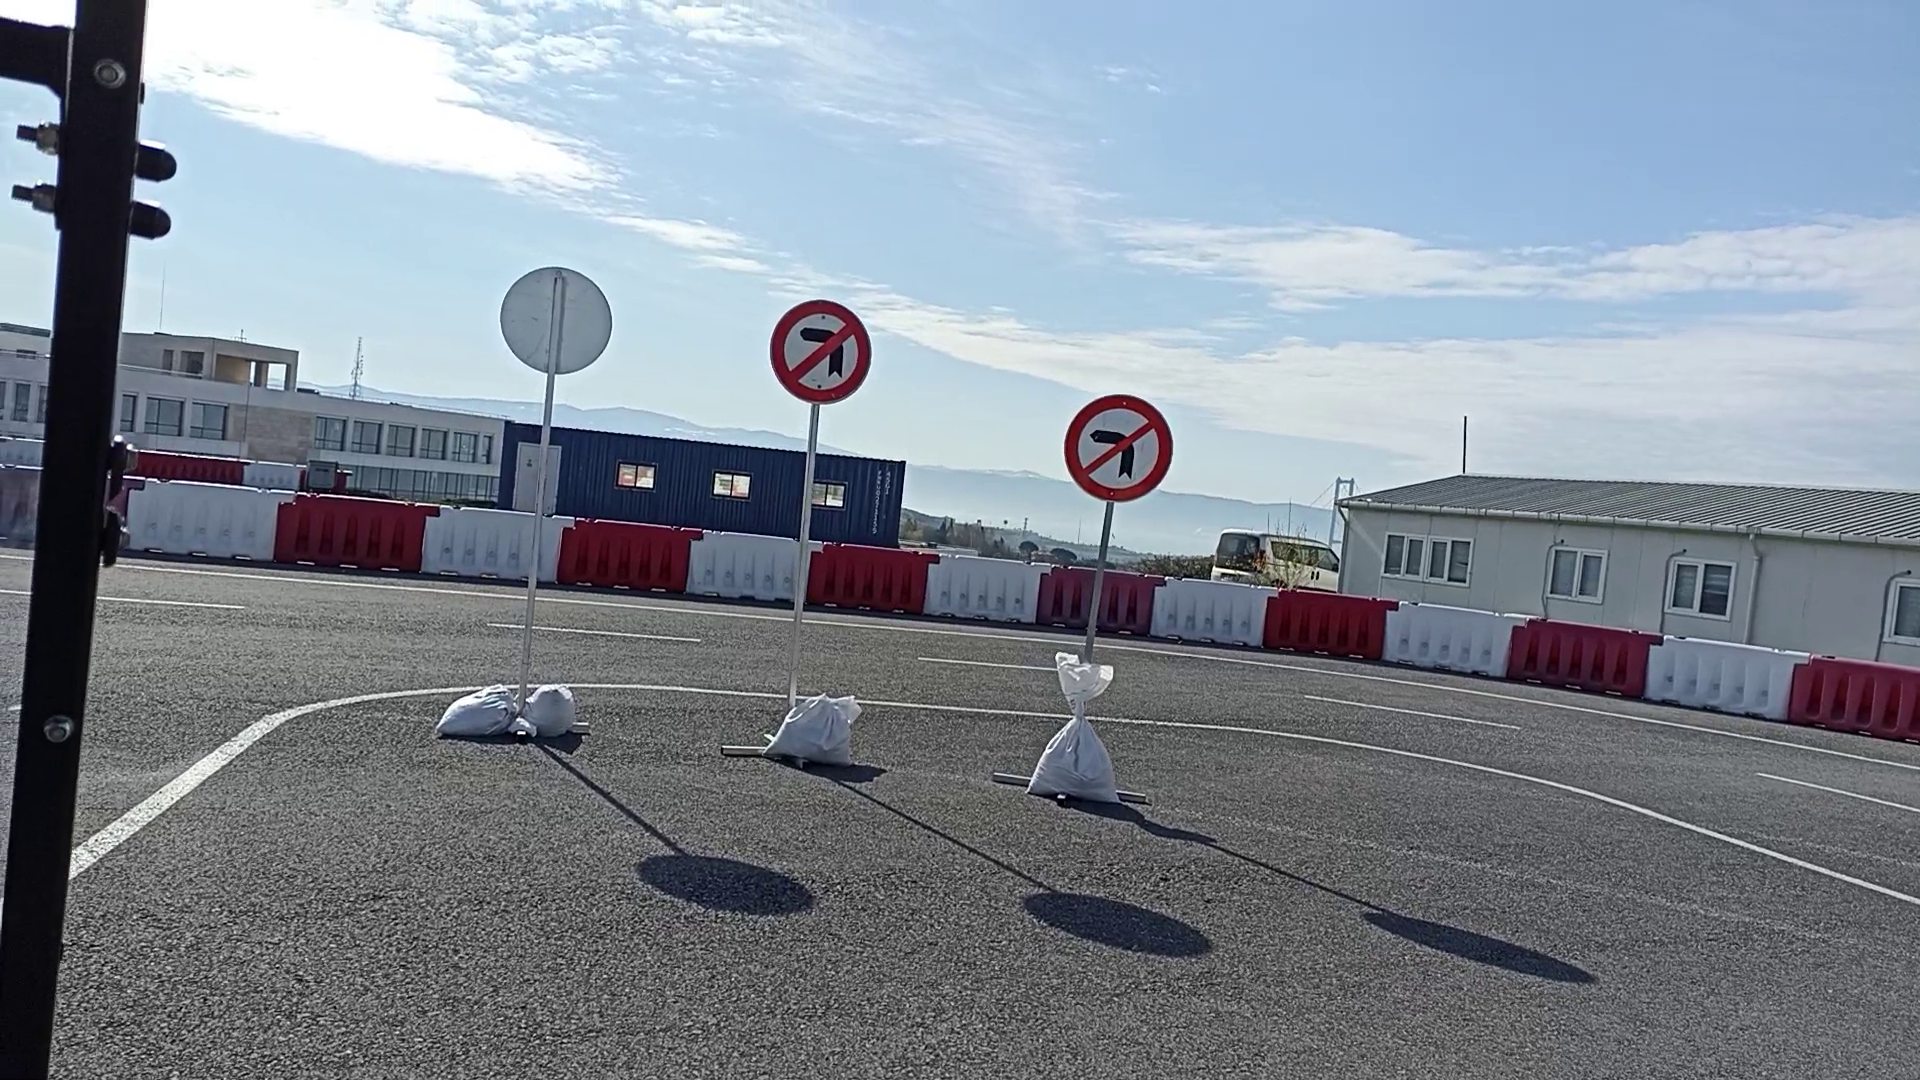noleft: (1062, 392, 1176, 504), (767, 298, 876, 404)
